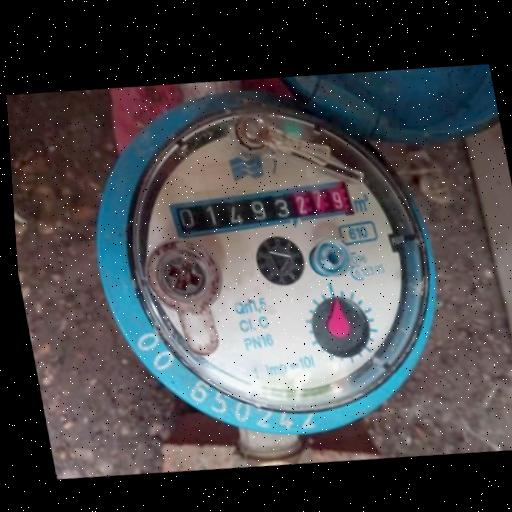0: (175, 203, 201, 233)
1: (201, 199, 224, 230)
2: (292, 189, 313, 218)
3: (269, 191, 294, 221)
4: (222, 197, 248, 228)
7: (309, 185, 333, 216)
9: (323, 178, 355, 219), (247, 194, 270, 225)
border_water_meter_number: (164, 168, 359, 248)
